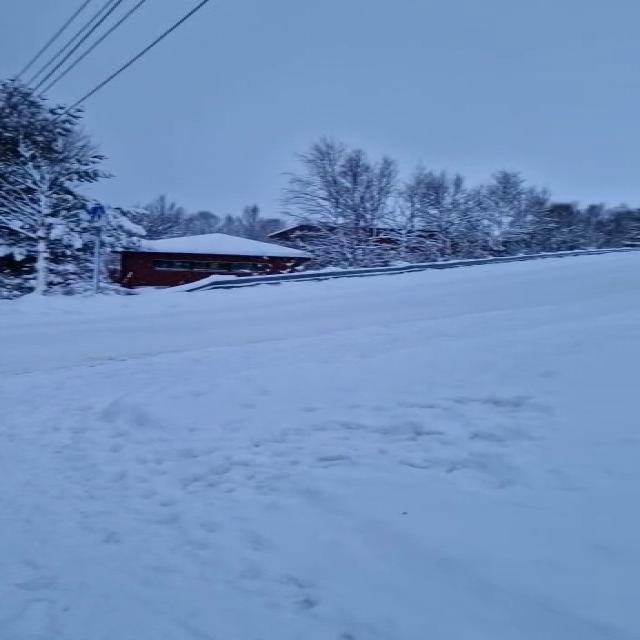path: (0, 248, 640, 378)
